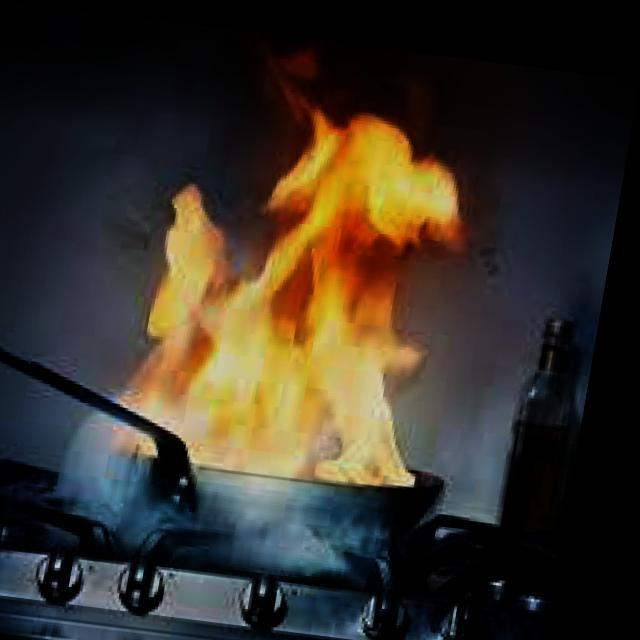Fire: (128, 81, 518, 493)
